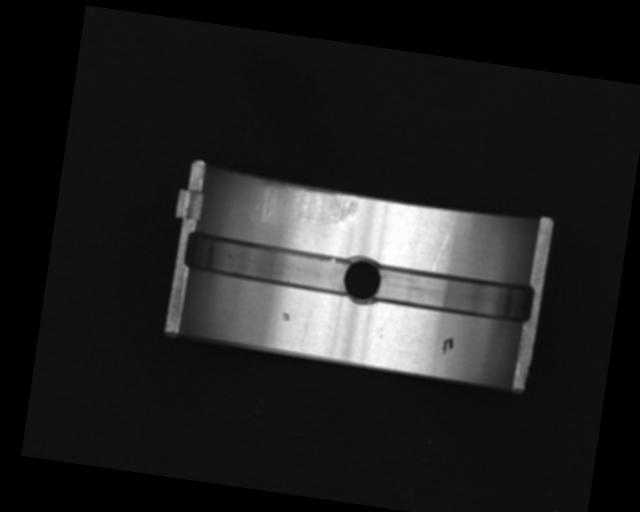blot: (440, 334, 454, 356)
bruise: (280, 311, 291, 321)
gap: (182, 230, 356, 297), (371, 261, 538, 325)
hole: (340, 251, 385, 306)
nick: (432, 229, 451, 273), (301, 309, 312, 343)
scratch: (251, 178, 361, 235)
